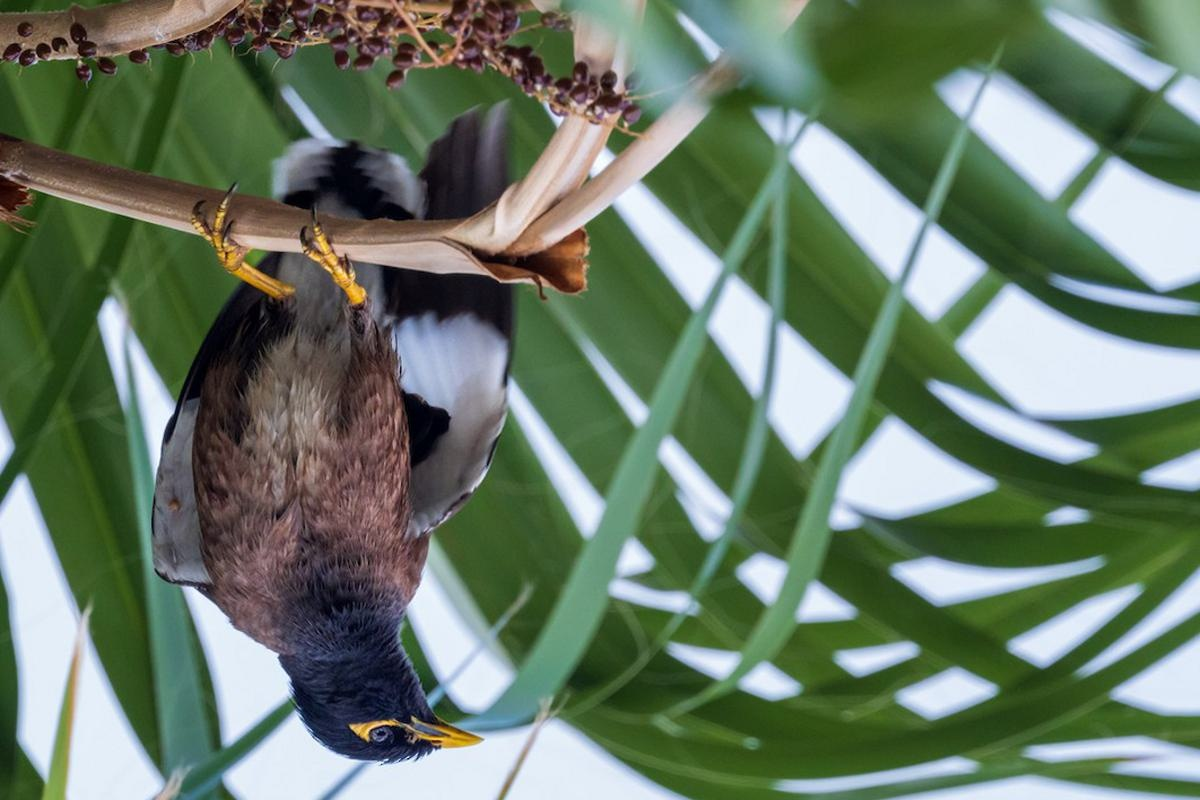myna: (179, 190, 478, 785)
